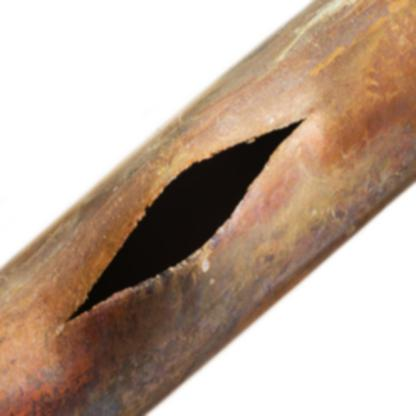burst: (69, 120, 313, 323)
